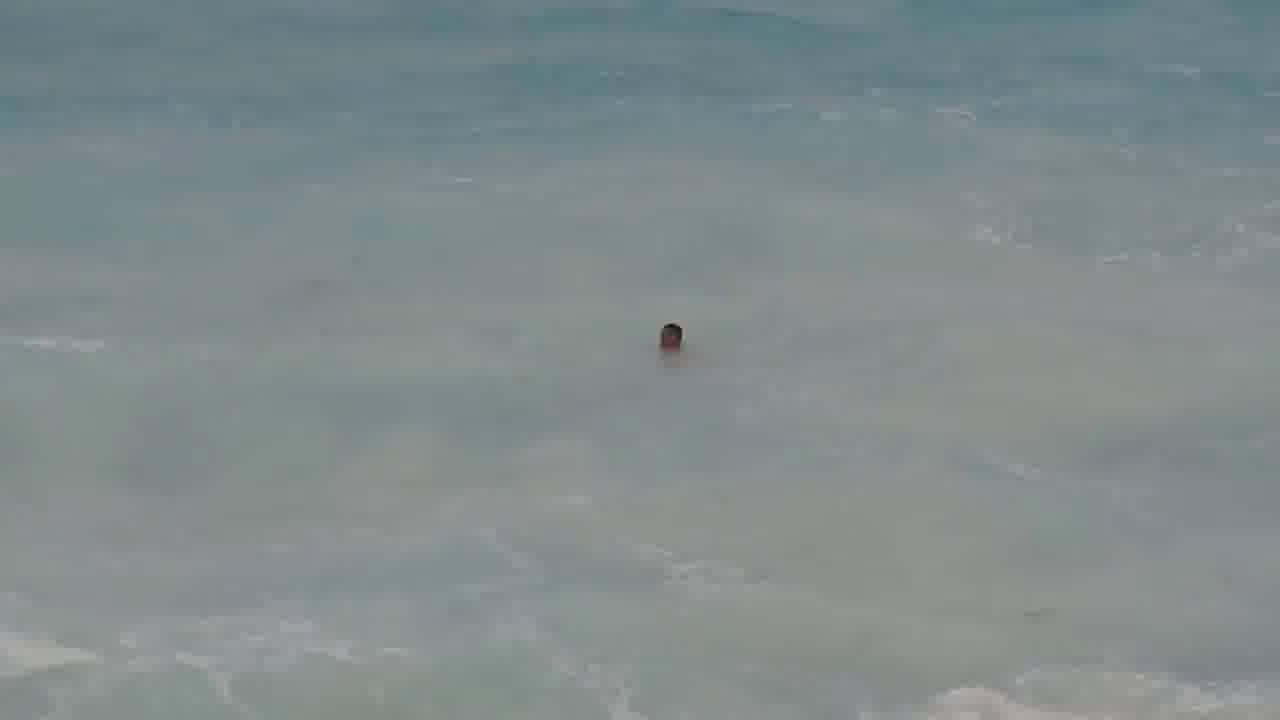human: (635, 311, 707, 361)
